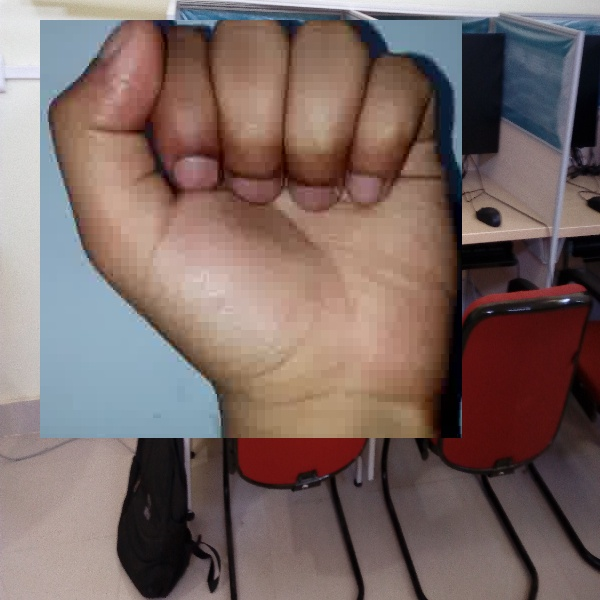A: (40, 20, 462, 438)
